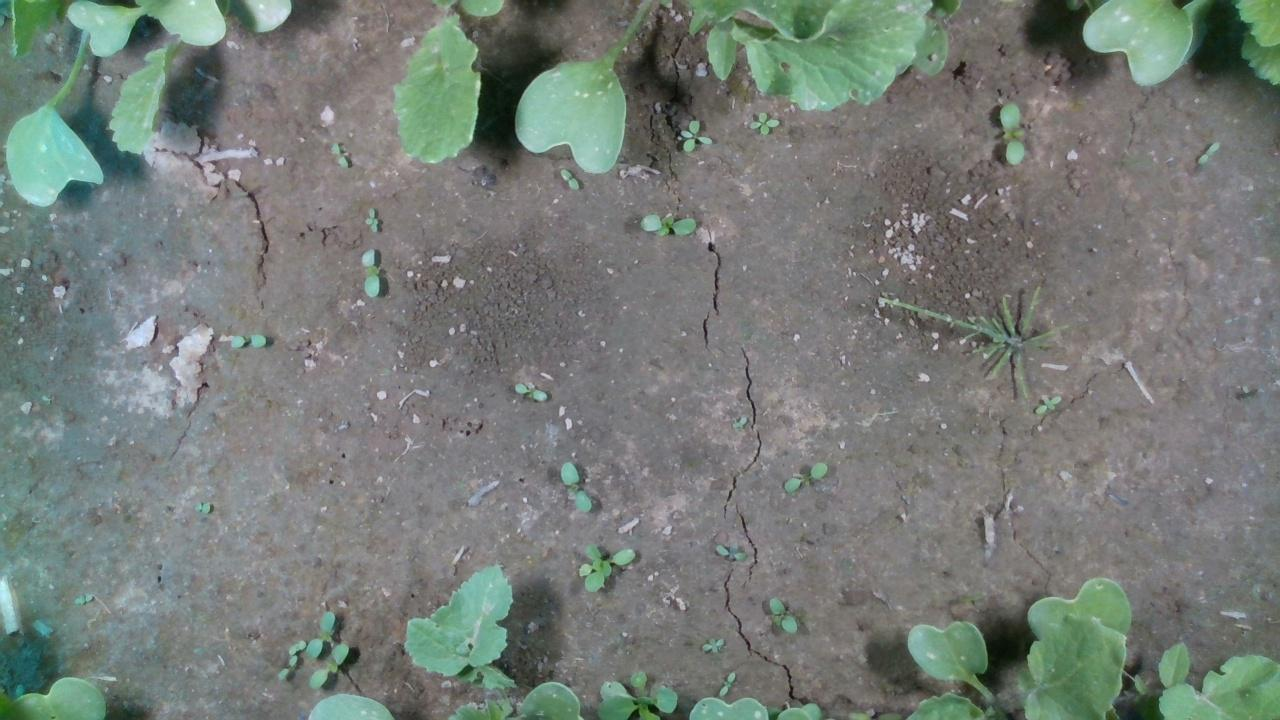weed: (998, 101, 1026, 164), (559, 458, 591, 512), (781, 460, 828, 492), (677, 117, 713, 151), (766, 595, 797, 633), (359, 244, 379, 300), (513, 378, 547, 405), (748, 110, 781, 134), (1032, 393, 1062, 417), (326, 139, 349, 169), (1196, 139, 1222, 164), (228, 332, 267, 348), (557, 167, 579, 192), (713, 543, 747, 559), (717, 670, 735, 697), (699, 634, 724, 653), (363, 205, 379, 233)
